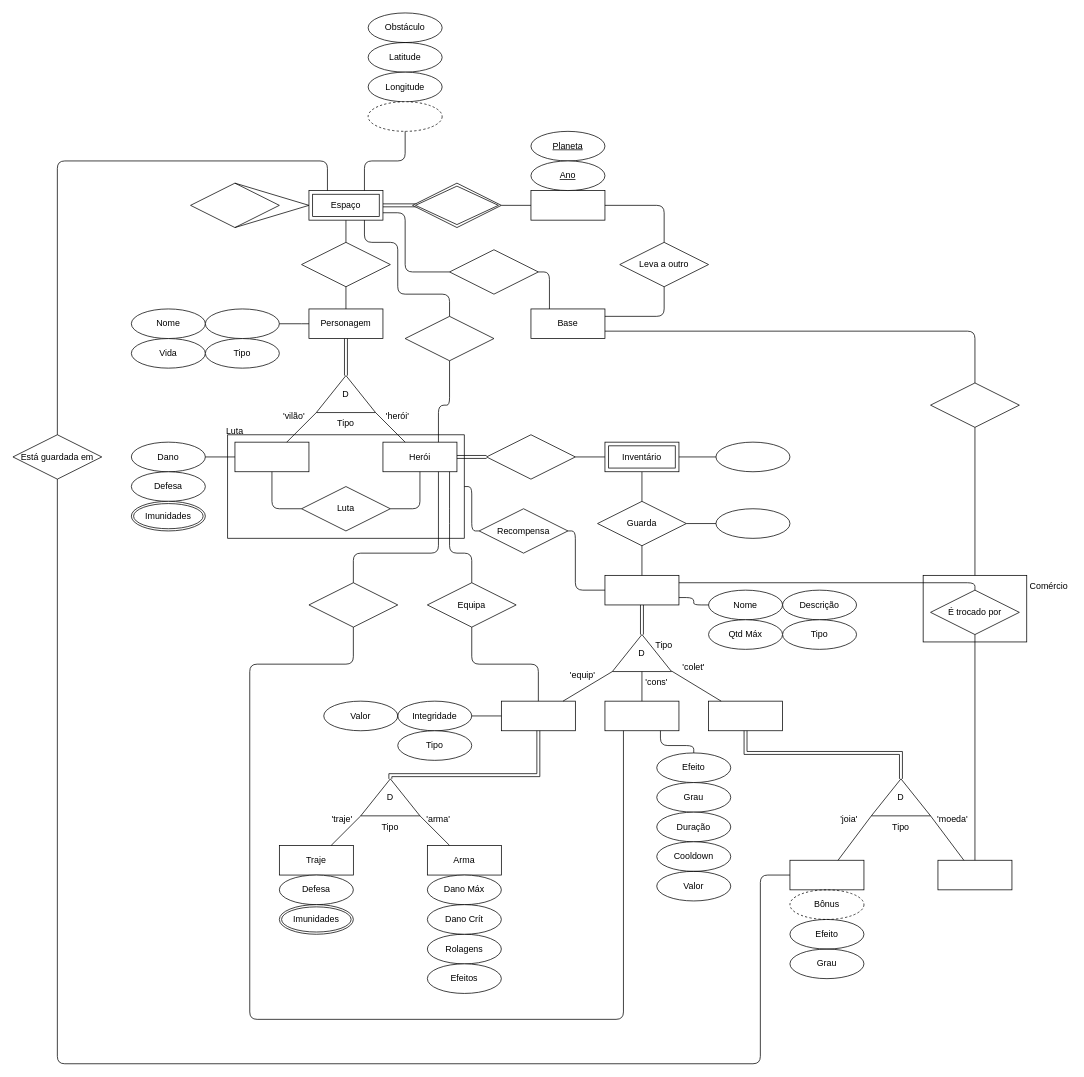
Image size: 1084x1077. Some labels were removed from this diagram. The centre of each missing label's shape, as x and y in pixels:
Agilidade: pixel 242 323
Coletável: pixel 745 715
Compõe: pixel 456 205
Consome: pixel 353 604
Consumível: pixel 641 715
Coordenada: pixel 404 116
Equipamento: pixel 538 715
Está em: pixel 345 264
Item: pixel 641 590
Jóia: pixel 826 875
Mapa: pixel 567 205
Moeda: pixel 974 875
Ocorre em: pixel 974 404
Possui: pixel 530 456
Quantidade: pixel 752 523
Se localiza em: pixel 493 271
Tamanho: pixel 752 456
Vai para: pixel 449 338
Vilão: pixel 271 456
Vizinha: pixel 234 205
